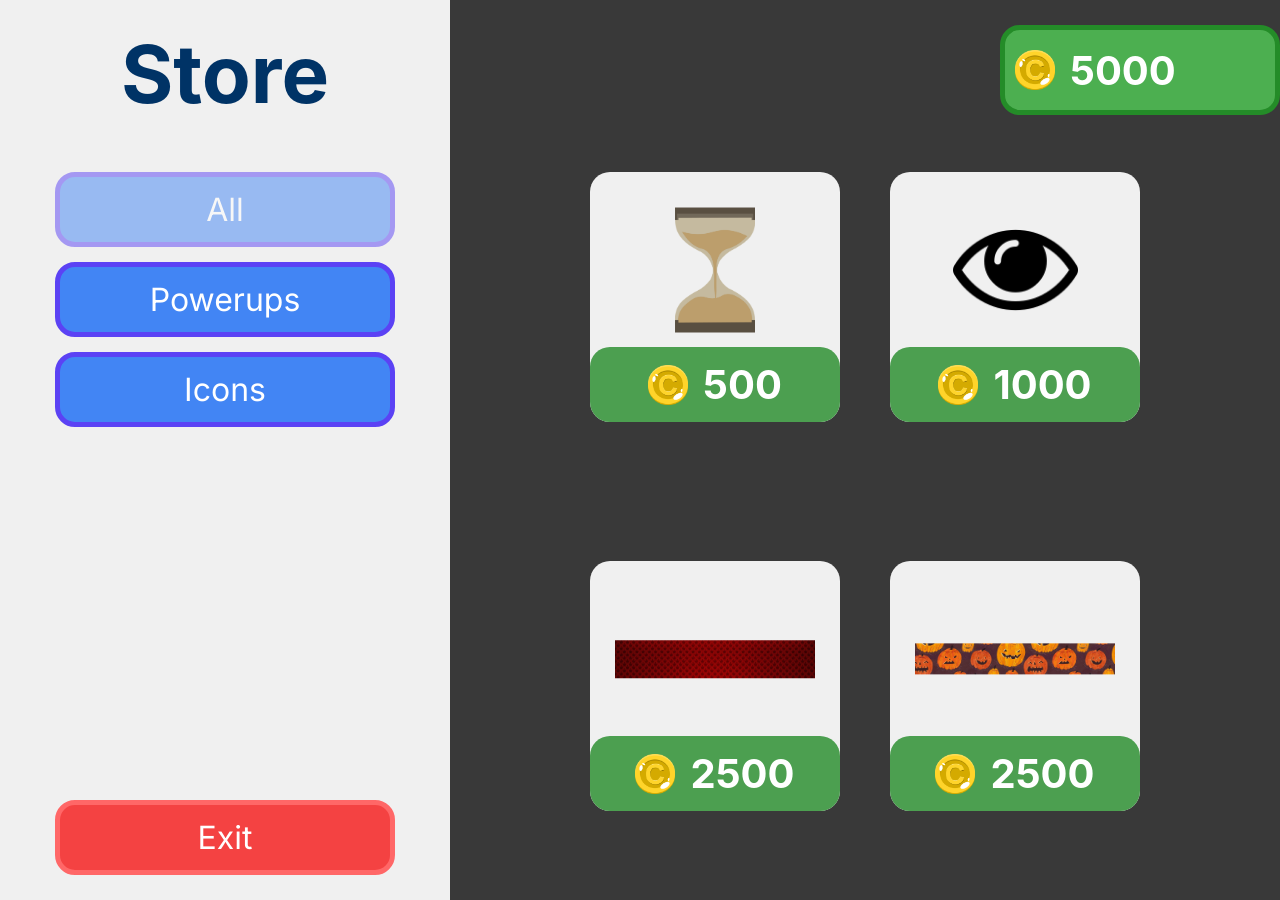
it: The Store Page › number of coins should be adjusted appropriately
Click the element with test id "Add Time": coordinates (715, 297) [590,172,840,422]
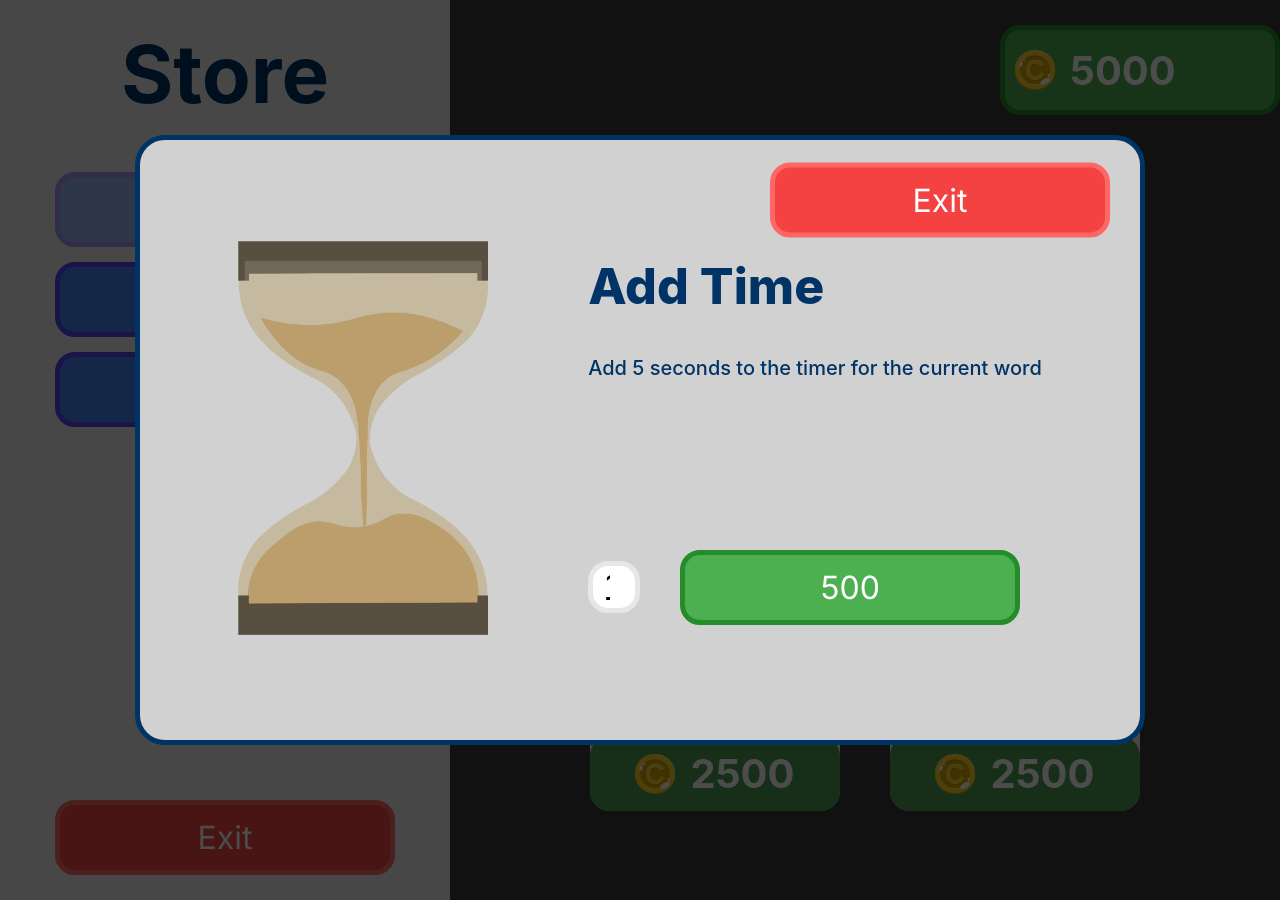
Click the button "500": coordinates (850, 587) [680,550,1020,624]
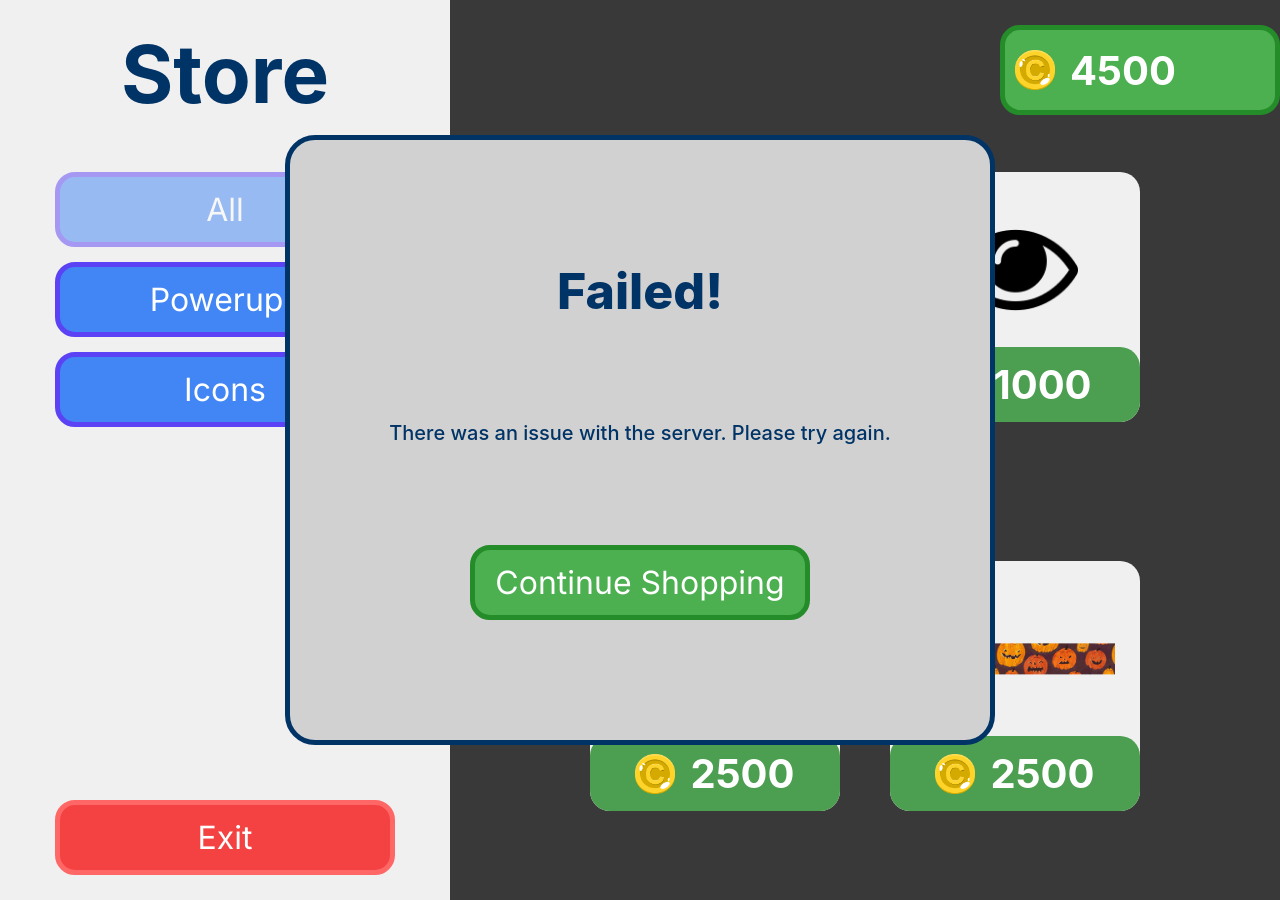
Result: the element with class "currency" reads "4500" at [1070,46,1176,94]
